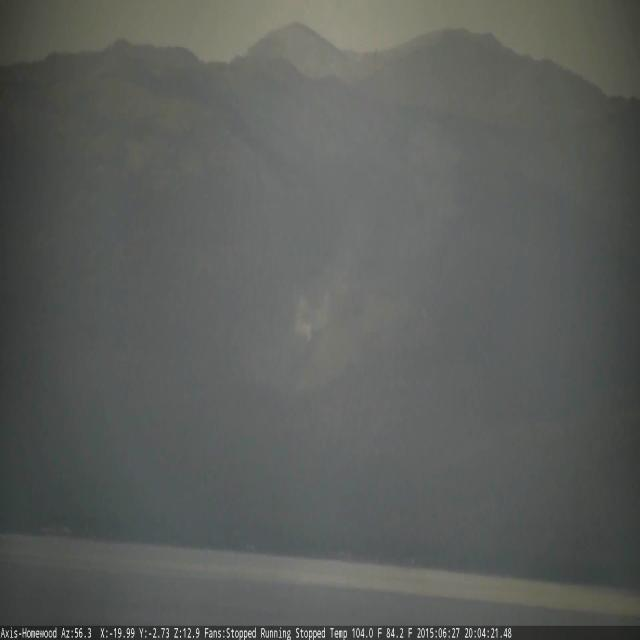smoke: (292, 288, 330, 346)
